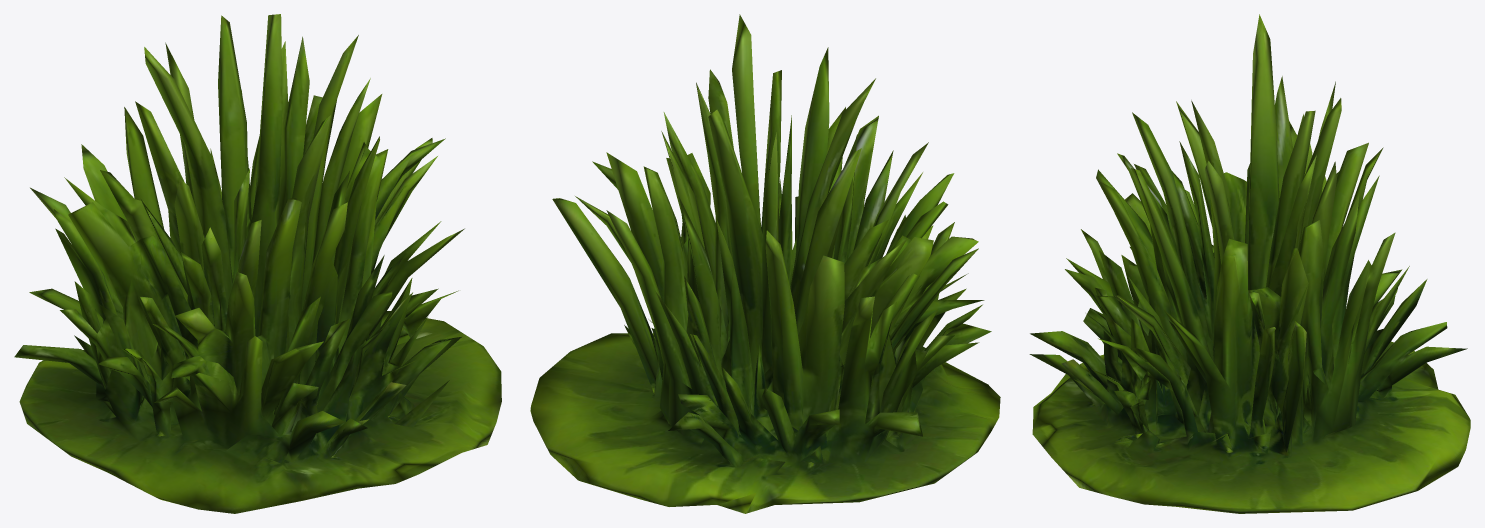
Rendered from Grass1.glb.
3 renders of one model, left to right at view 1: azimuth 30°, elevation 25°; view 2: azimuth 150°, elevation 25°; view 3: azimuth 270°, elevation 25°, orthographic. The views are drawn at different scales.
Visible parts, largest first — view 1: Mesh1.0; view 2: Mesh1.0; view 3: Mesh1.0.
Part boxes in pixels (box(x1,y1,x2,y2)): Mesh1.0: box(14, 14, 501, 513); Mesh1.0: box(530, 14, 1000, 513); Mesh1.0: box(1029, 14, 1470, 513).
Size of the model in its own units: 1.99 by 1.77 by 1.94.
Materials: 1 (1 with a texture image).
